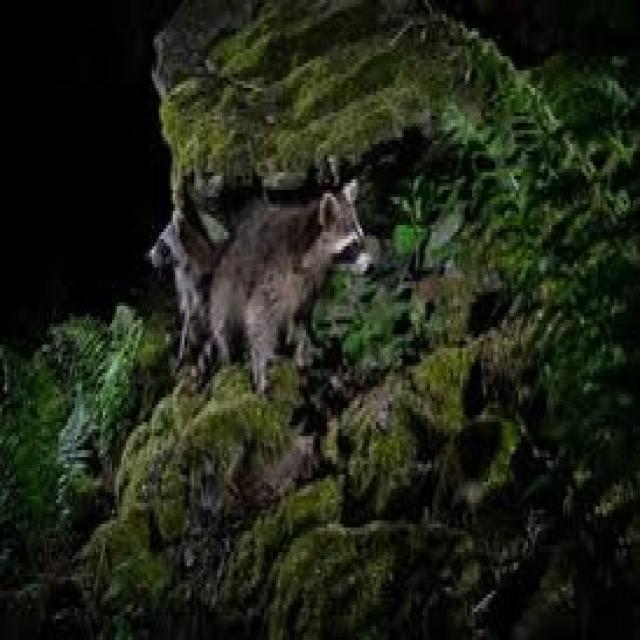racoon: (219, 187, 379, 377), (137, 183, 207, 368)
